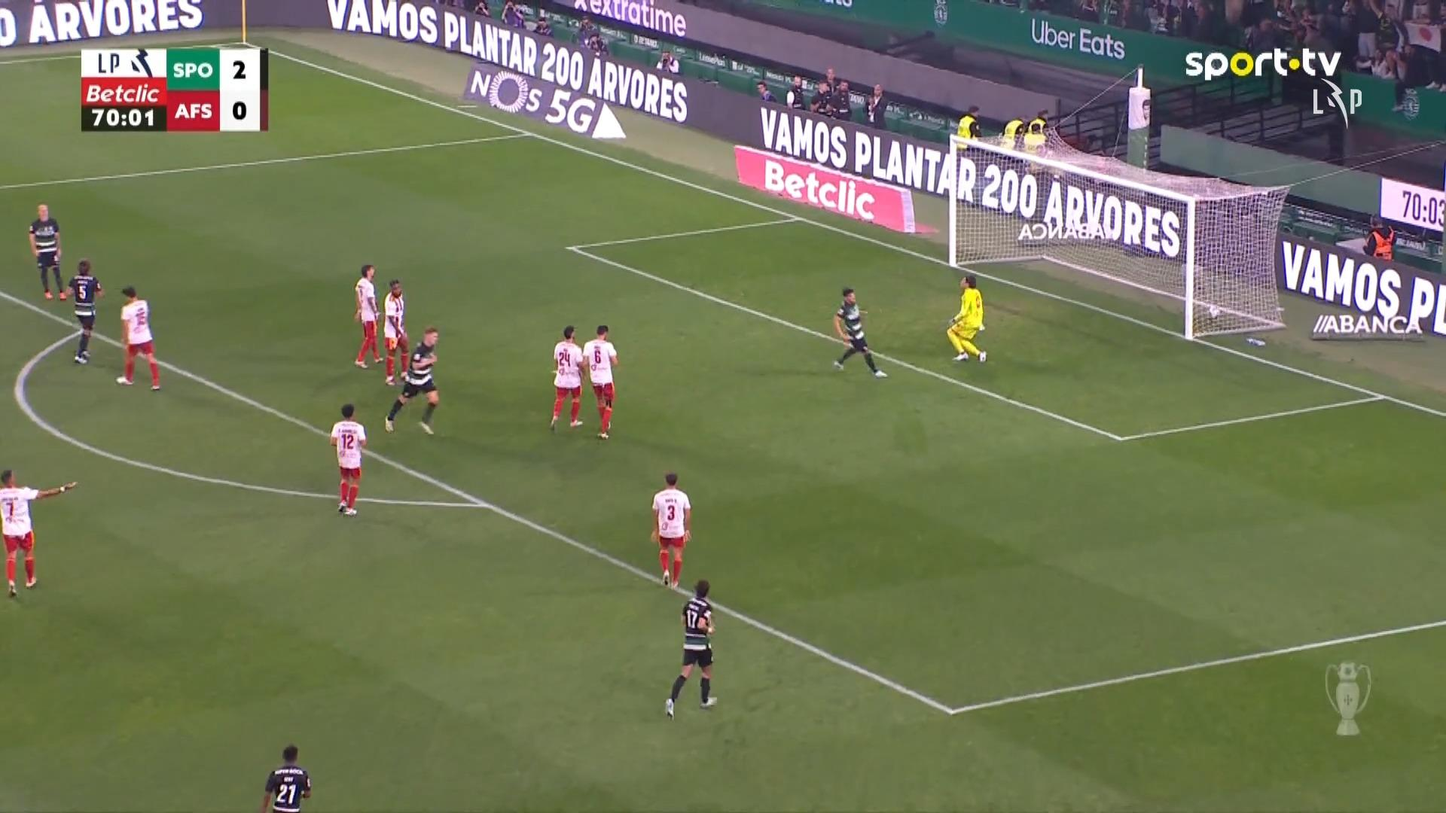ball: (1205, 304, 1222, 322)
goalkeeper: (945, 275, 988, 362)
player: (0, 467, 78, 598), (664, 579, 718, 720), (384, 326, 440, 435), (831, 287, 888, 378), (649, 471, 691, 589), (115, 285, 161, 391), (59, 258, 104, 364), (329, 403, 367, 516), (581, 324, 618, 439), (548, 324, 584, 431), (27, 202, 66, 300), (261, 744, 312, 811), (352, 263, 383, 368), (381, 279, 410, 385)
